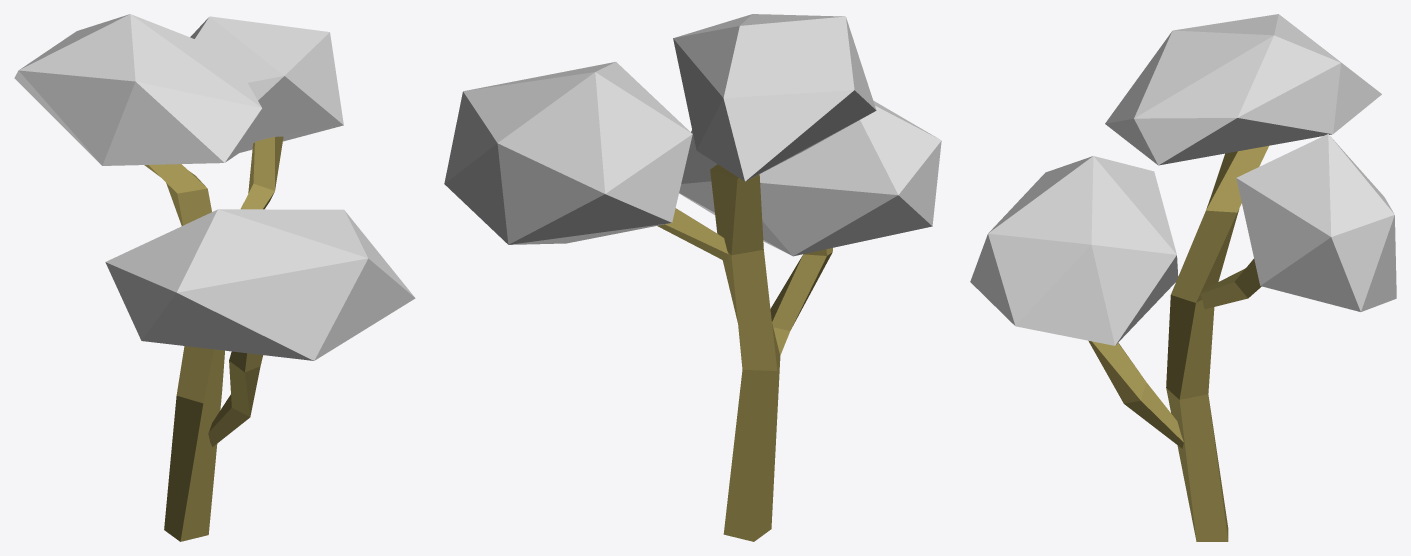
Rendered from Tree_Winter_8.fbx.
3 views of the same model, side by side, from view 1: azimuth 30°, elevation 25°; view 2: azimuth 150°, elevation 25°; view 3: azimuth 270°, elevation 25° (orthographic). The views are drawn at different scales.
Visible parts, largest first — view 1: Leaves, Leaves.002, Leaves.001, Trunk, Trunk.002, Trunk.001; view 2: Leaves.001, Leaves.002, Leaves, Trunk, Trunk.002, Trunk.001; view 3: Leaves, Leaves.002, Leaves.001, Trunk, Trunk.002, Trunk.001.
Boxes of the visible parts, box(x1,y1,x2,y2) form: Leaves: box(105, 209, 415, 360); Leaves.002: box(14, 14, 273, 165); Leaves.001: box(190, 16, 343, 152); Trunk: box(144, 164, 224, 541); Trunk.002: box(208, 351, 263, 446); Trunk.001: box(241, 136, 283, 209); Leaves.001: box(444, 62, 692, 244); Leaves.002: box(673, 14, 876, 181); Leaves: box(679, 100, 941, 256); Trunk: box(710, 164, 780, 541); Trunk.002: box(770, 248, 832, 355); Trunk.001: box(657, 208, 728, 263); Leaves: box(970, 156, 1178, 345); Leaves.002: box(1105, 14, 1381, 165); Leaves.001: box(1236, 134, 1396, 311); Trunk: box(1166, 146, 1268, 541); Trunk.002: box(1088, 340, 1183, 448); Trunk.001: box(1200, 259, 1261, 308).
Size of the model in its own units: 225 by 316 by 251.
